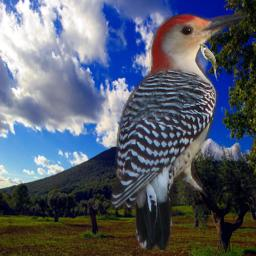Cuckoo: (198, 43, 218, 81)
Woodpecker: (110, 12, 250, 250)
